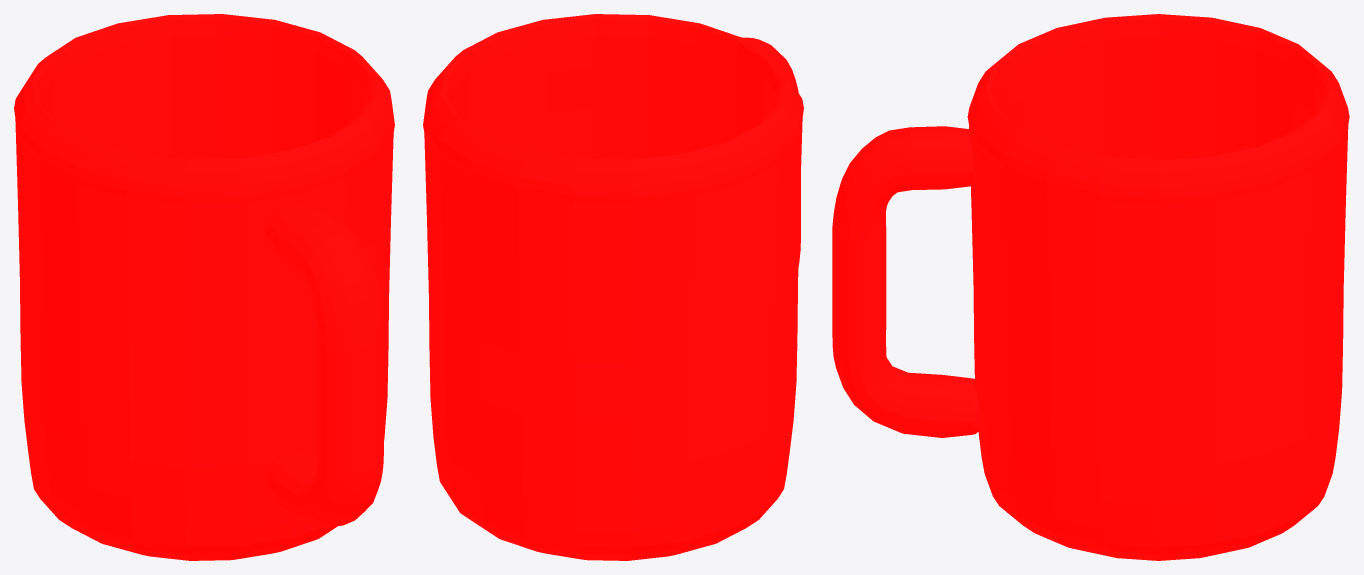
File: race_mug3_red2.dae
3 views of the same model, side by side, from view 1: azimuth 30°, elevation 25°; view 2: azimuth 150°, elevation 25°; view 3: azimuth 270°, elevation 25° (orthographic).
Visible parts, largest first — view 1: Race_Mug3; view 2: Race_Mug3; view 3: Race_Mug3.
Part boxes in pixels (<box>): Race_Mug3: <box>14,14,394,560</box>; Race_Mug3: <box>423,14,803,560</box>; Race_Mug3: <box>832,14,1349,560</box>.
Bounding box in the file's own units: 1.39 × 1.89 × 1.69.
